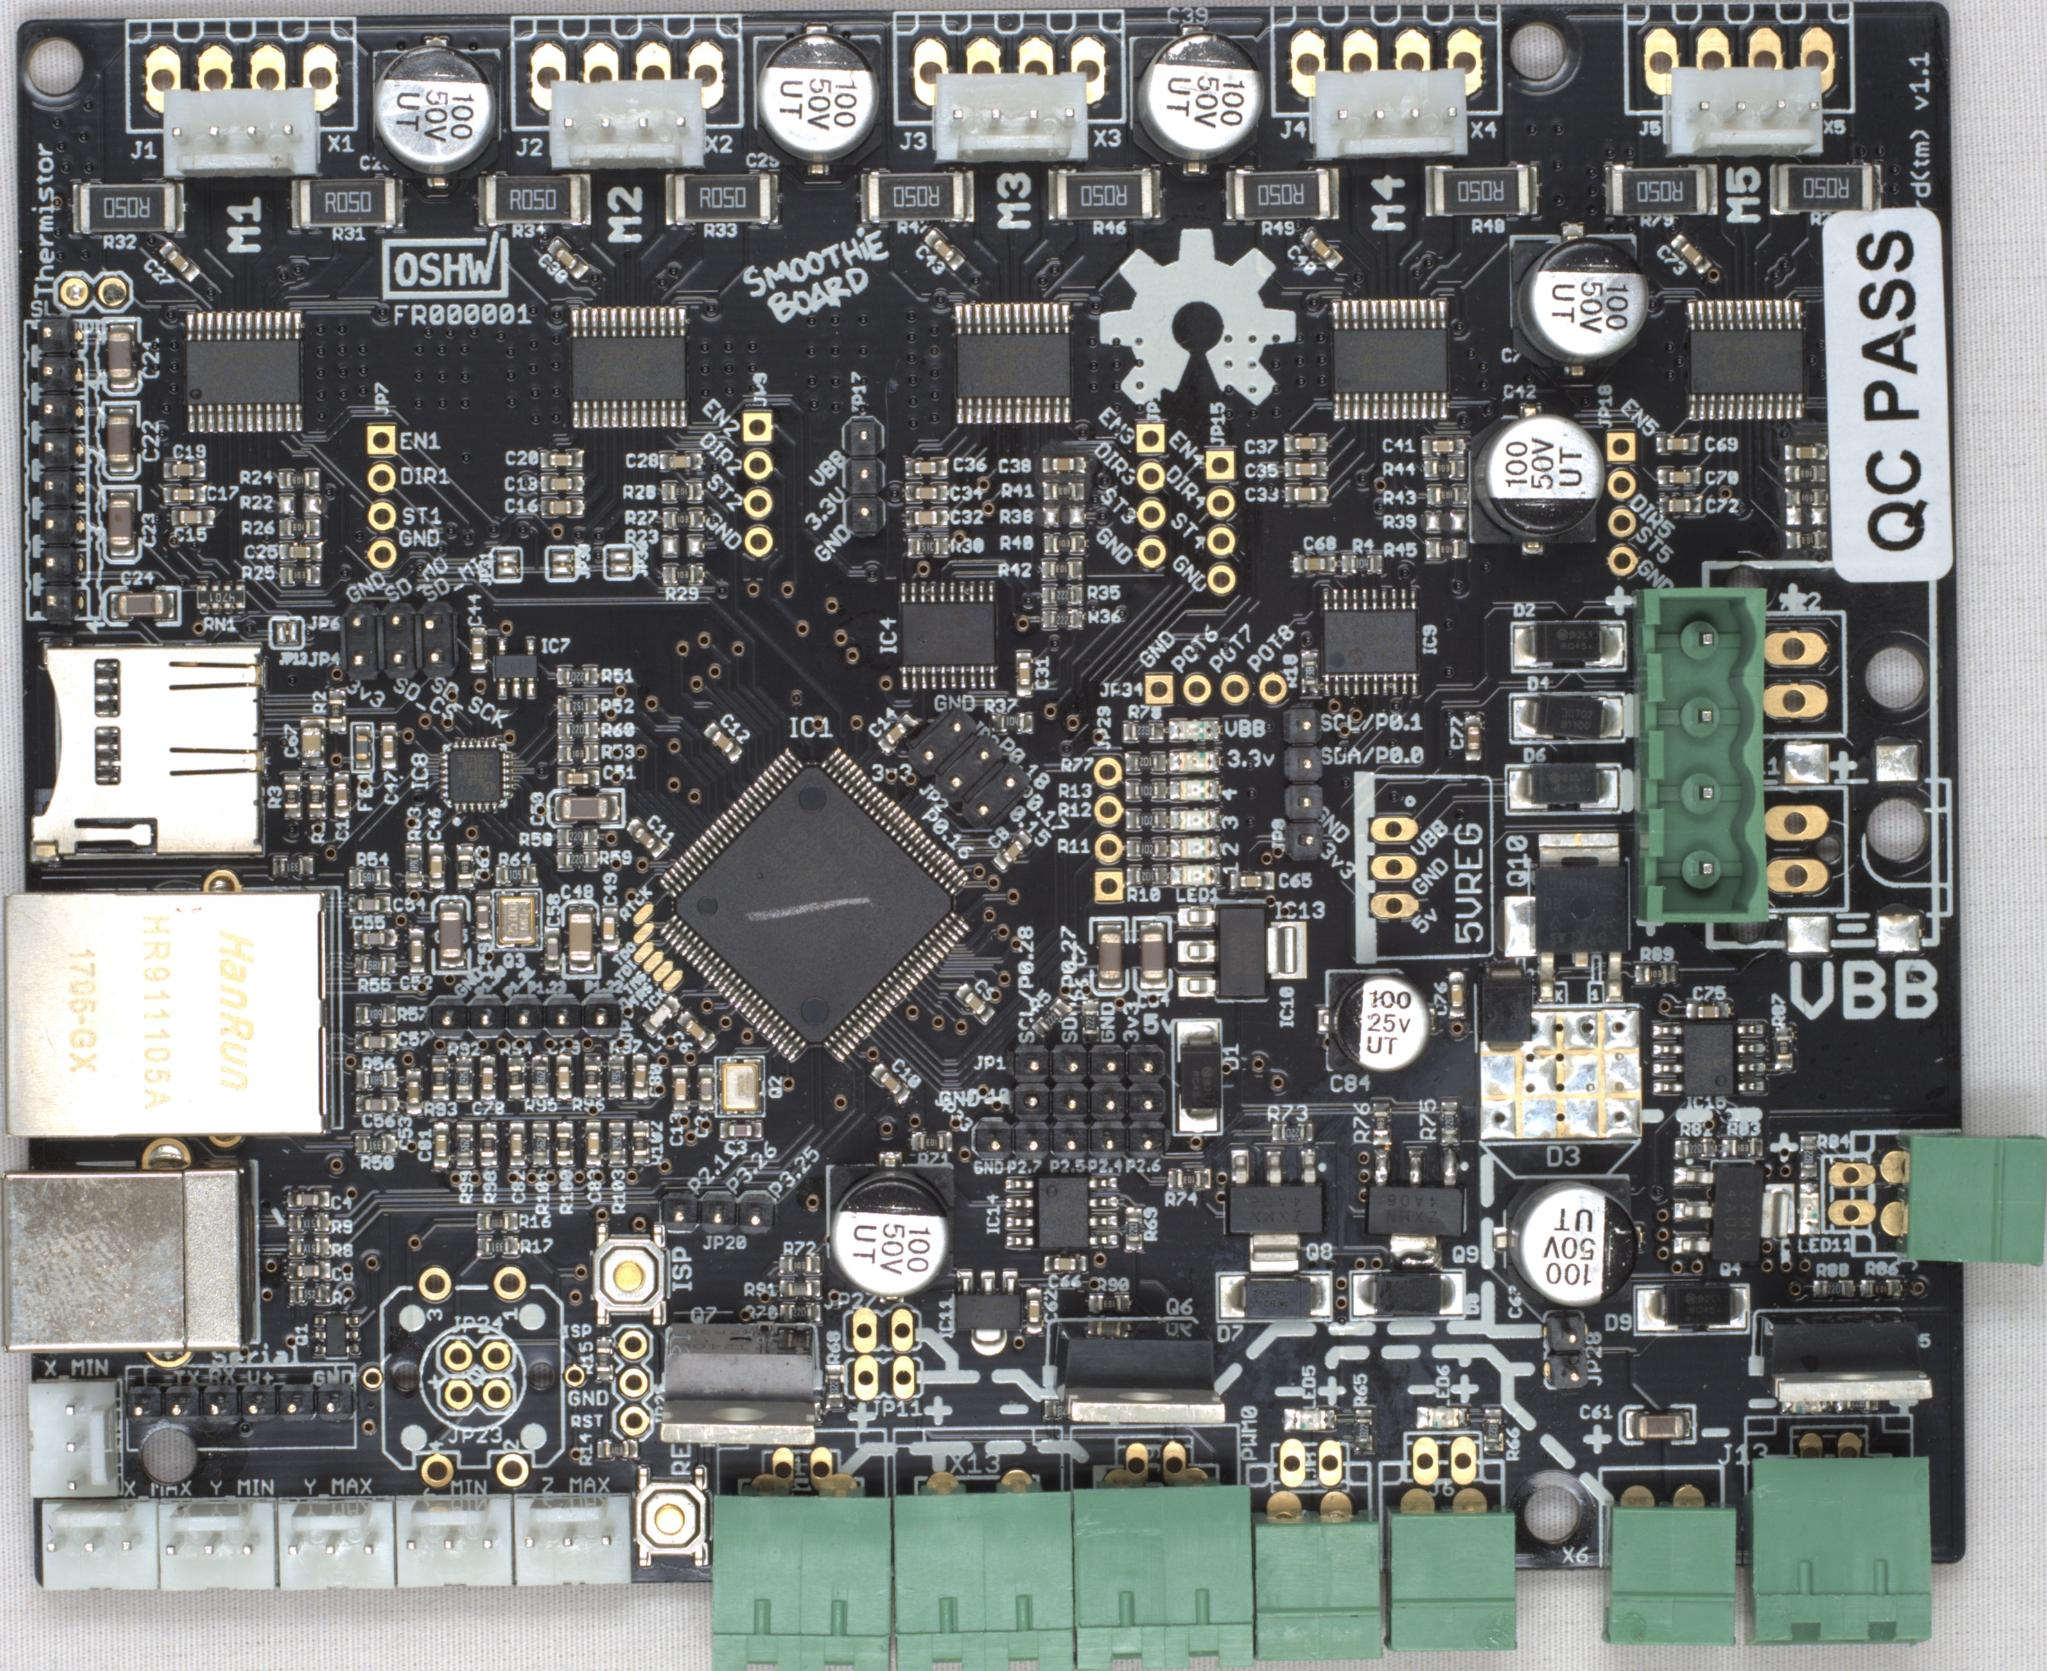tact switch: (632, 1465, 707, 1564), (597, 1241, 663, 1316)
tranzystor: (1506, 828, 1632, 998), (663, 1323, 819, 1443), (1765, 1323, 1936, 1418), (1058, 1340, 1233, 1428), (1228, 1146, 1328, 1275), (1367, 1151, 1466, 1260), (313, 1312, 360, 1360)
